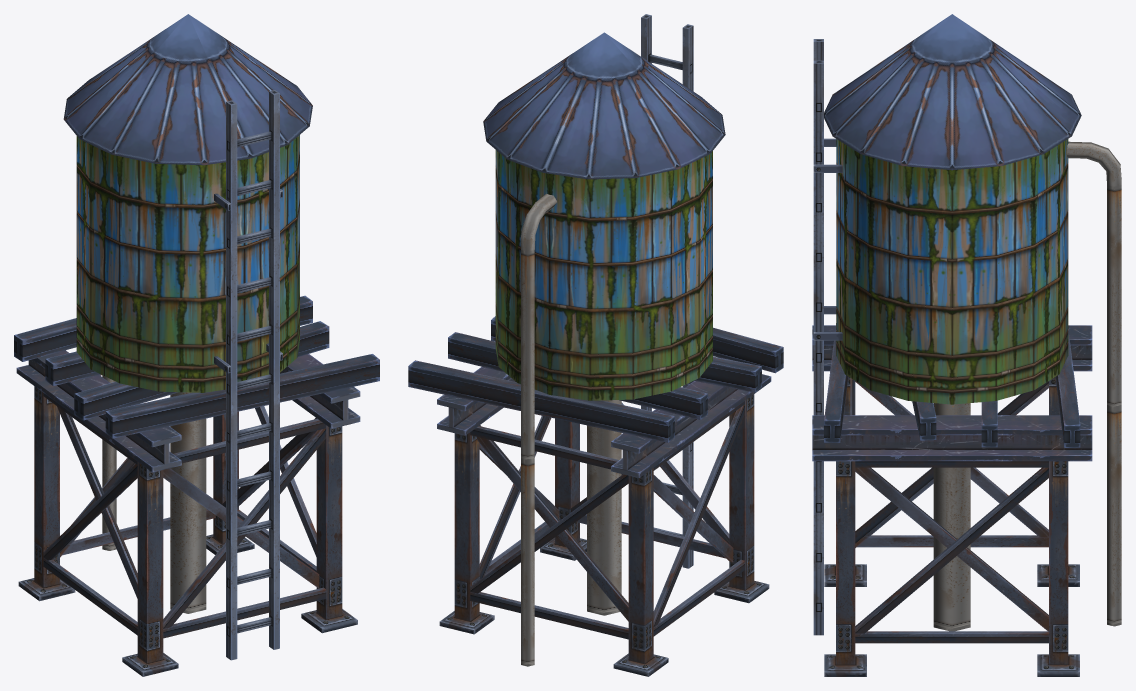
The model's file is waterTank01_D.fbx.
3 views of the same model, side by side, from view 1: azimuth 30°, elevation 25°; view 2: azimuth 150°, elevation 25°; view 3: azimuth 270°, elevation 25° (orthographic). The views are drawn at different scales.
Parts seen in each view (by area): view 1: waterTank01_D; view 2: waterTank01_D; view 3: waterTank01_D.
Boxes of the visible parts, x1,y1,x2,y2 form: waterTank01_D: (14, 14, 379, 676); waterTank01_D: (408, 14, 783, 676); waterTank01_D: (812, 14, 1121, 676).
Bounding box in the file's own units: 338 × 694 × 320.
